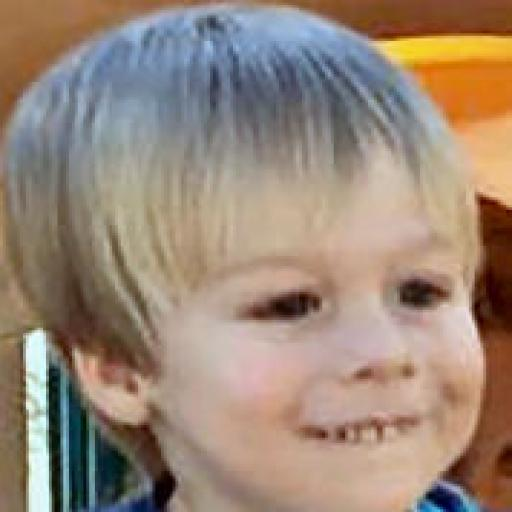Autism: (31, 27, 512, 453)
